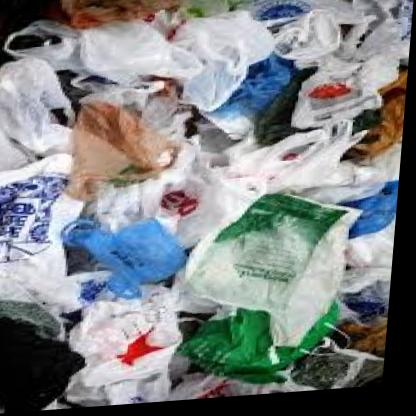Plastic: (192, 192, 350, 358), (298, 0, 402, 124), (71, 294, 196, 392), (57, 210, 184, 300), (0, 120, 57, 297), (68, 90, 179, 178), (239, 123, 365, 192), (182, 15, 288, 87), (71, 22, 174, 90), (58, 0, 176, 31)
